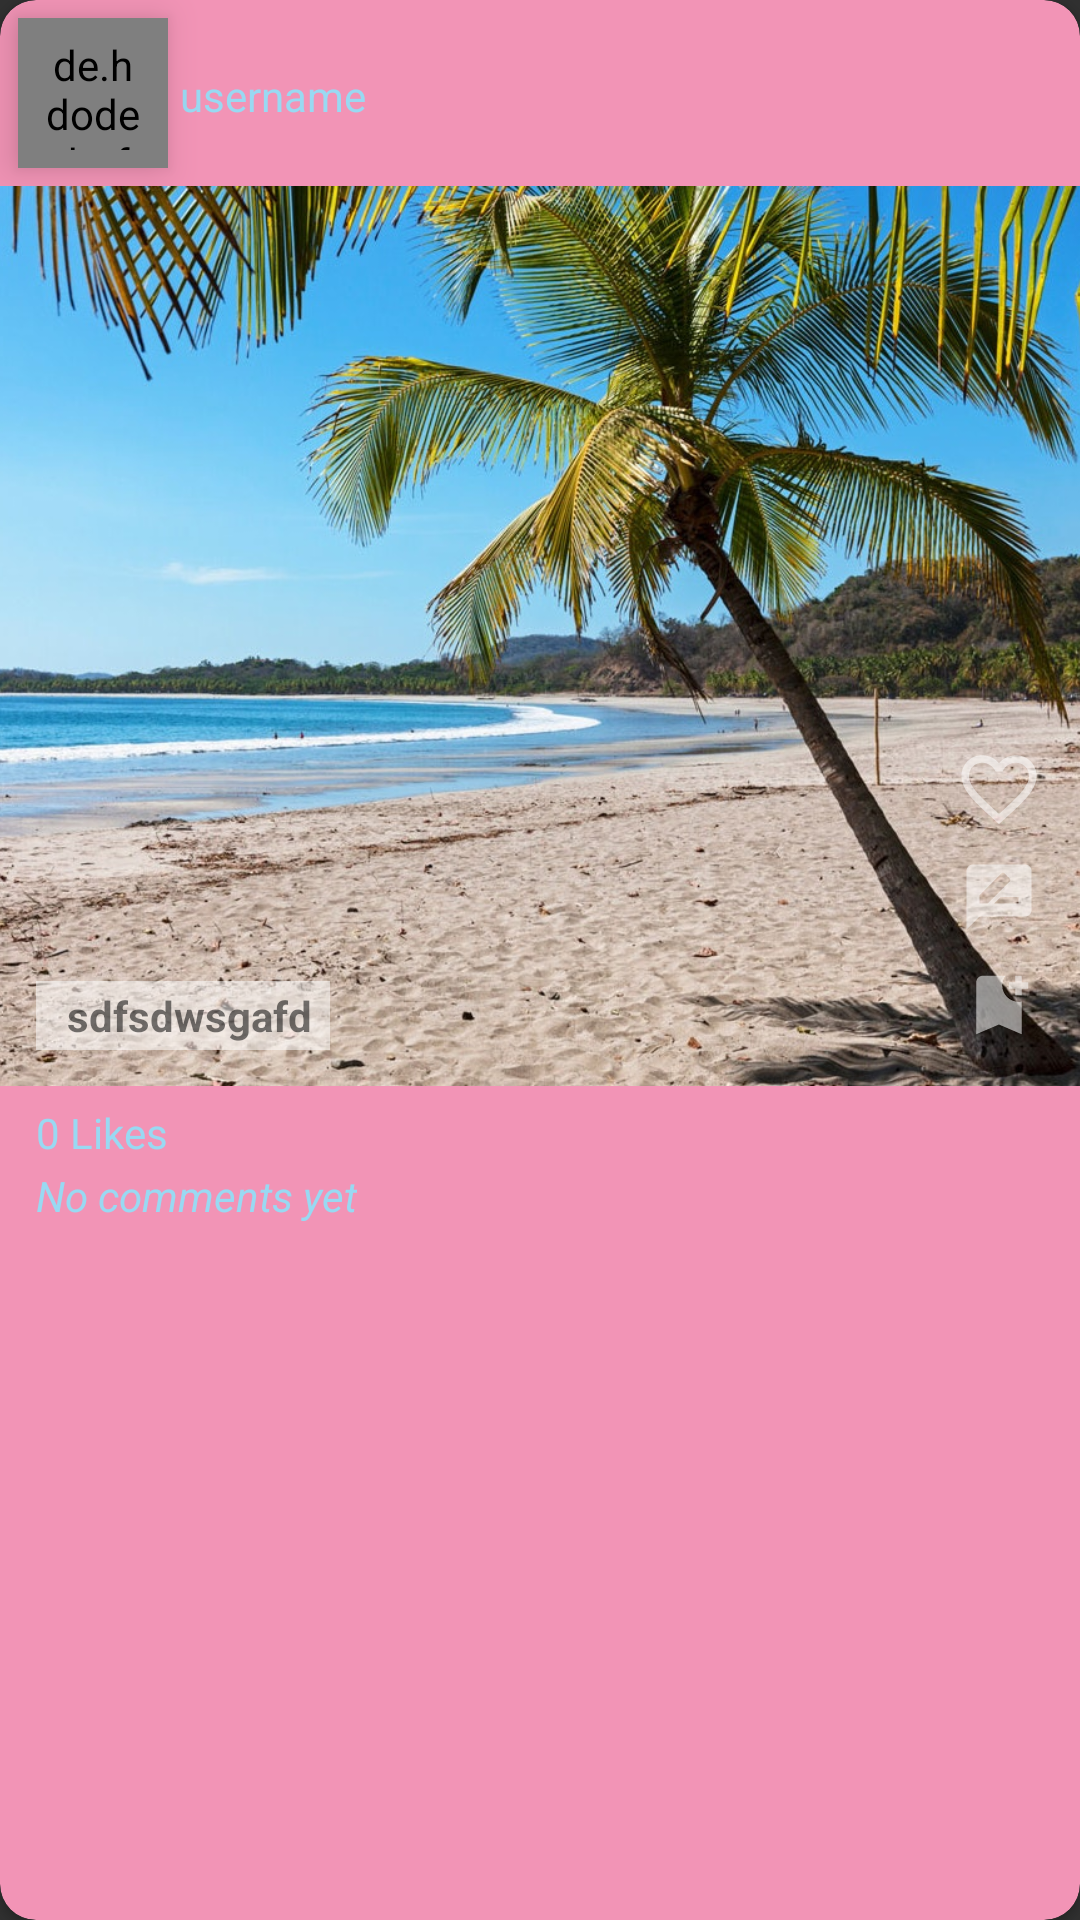

Screen size 1080×1920. Icon name, then its center in pixels as (x,y):
add save: (999,1005)
comment: (999,897)
favorite: (999,789)
